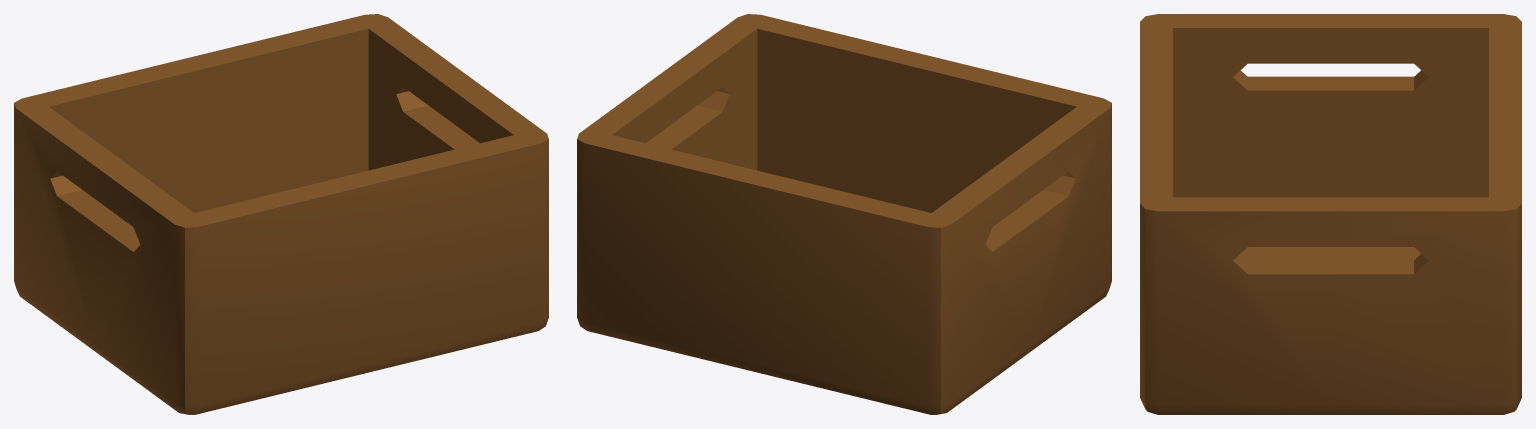
File: decor_woodenbox.fbx
3 views of the same model, side by side, from view 1: azimuth 30°, elevation 25°; view 2: azimuth 150°, elevation 25°; view 3: azimuth 270°, elevation 25° (orthographic). The views are drawn at different scales.
Visible parts, largest first — view 1: decor_woodenbox; view 2: decor_woodenbox; view 3: decor_woodenbox.
Part boxes in pixels (<box>): decor_woodenbox: <box>14,14,548,414</box>; decor_woodenbox: <box>577,14,1111,414</box>; decor_woodenbox: <box>1140,14,1521,414</box>.
Size of the model in its own units: 46.96 by 23.38 by 38.4.
